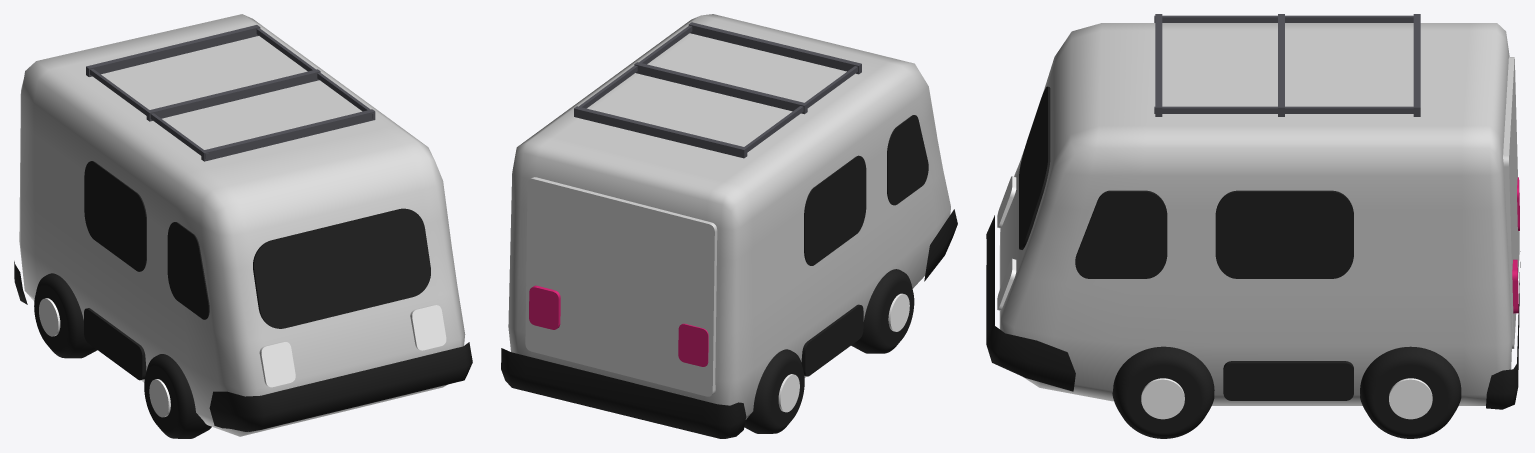
File: van.glb
The picture shows the model from 3 angles, left to right: view 1: azimuth 30°, elevation 25°; view 2: azimuth 150°, elevation 25°; view 3: azimuth 270°, elevation 25°; orthographic projection. The views are drawn at different scales.
Parts seen in each view (by area): view 1: body, Front Window, bumper, Ellipse 3 (×4), Rectangle (×2), Rectangle 2 (×2), Rectangle 3 (×2), Headlight 2, Headlight, Rectangle 6, Rectangle 5; view 2: body, back door, rear bumper, Ellipse 3 (×4), Rectangle (×2), Rectangle 2 (×2), Rectangle 3 (×2), Headlight 2, Headlight, Rectangle 6, bumper, Rectangle 5; view 3: body, Rectangle 2 (×3), Rectangle (×2), Ellipse (×2), Ellipse 2 (×2), bumper, Front Window, back door, Rectangle 6, Rectangle 5, rear bumper, Rectangle 3.
Part boxes in pixels (bbox=[...]): body: bbox=[19, 14, 465, 436]; Front Window: bbox=[253, 208, 430, 328]; bumper: bbox=[209, 342, 472, 431]; Ellipse 3 (×4): bbox=[34, 273, 211, 438]; Rectangle (×2): bbox=[84, 109, 375, 271]; Rectangle 2 (×2): bbox=[146, 69, 320, 319]; Rectangle 3 (×2): bbox=[84, 25, 260, 380]; Headlight 2: bbox=[410, 305, 446, 350]; Headlight: bbox=[259, 341, 295, 387]; Rectangle 6: bbox=[90, 69, 208, 158]; Rectangle 5: bbox=[256, 28, 375, 118]; body: bbox=[508, 14, 950, 419]; back door: bbox=[525, 177, 717, 396]; rear bumper: bbox=[501, 348, 746, 438]; Ellipse 3 (×4): bbox=[744, 269, 914, 433]; Rectangle (×2): bbox=[688, 22, 866, 265]; Rectangle 2 (×2): bbox=[634, 62, 928, 205]; Rectangle 3 (×2): bbox=[574, 106, 863, 376]; Headlight 2: bbox=[529, 285, 560, 329]; Headlight: bbox=[678, 323, 708, 366]; Rectangle 6: bbox=[744, 66, 857, 152]; bumper: bbox=[924, 209, 957, 281]; Rectangle 5: bbox=[579, 25, 692, 108]; body: bbox=[999, 23, 1512, 405]; Rectangle 2 (×3): bbox=[1075, 14, 1353, 400]; Rectangle (×2): bbox=[1155, 14, 1353, 278]; Ellipse (×2): bbox=[1112, 346, 1214, 438]; Ellipse 2 (×2): bbox=[1360, 346, 1461, 438]; bumper: bbox=[986, 215, 1075, 391]; Front Window: bbox=[1019, 86, 1050, 249]; back door: bbox=[1503, 57, 1519, 348]; Rectangle 6: bbox=[1154, 15, 1413, 22]; Rectangle 5: bbox=[1154, 106, 1413, 113]; rear bumper: bbox=[1486, 251, 1520, 409]; Rectangle 3: bbox=[1413, 14, 1420, 116].
Bounding box in the file's own units: 1.92 × 1.99 × 3.06.
